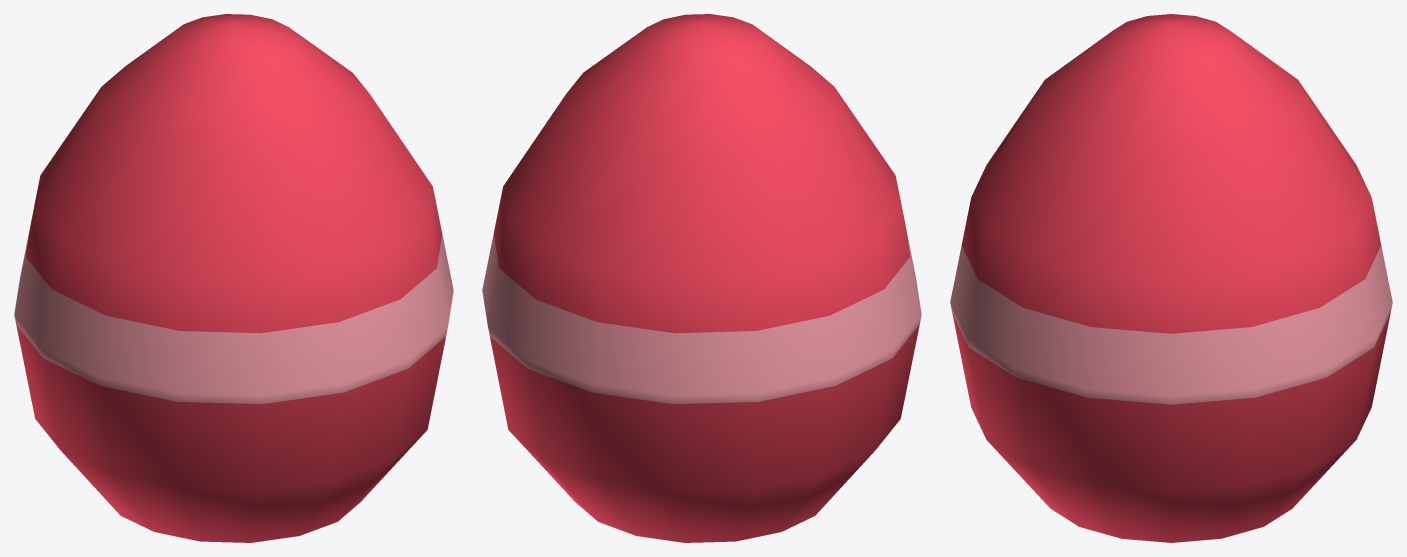
File: RubyEgg.fbx
The picture shows the model from 3 angles, left to right: view 1: azimuth 30°, elevation 25°; view 2: azimuth 150°, elevation 25°; view 3: azimuth 270°, elevation 25°; orthographic projection.
Parts seen in each view (by area): view 1: RubyEgg; view 2: RubyEgg; view 3: RubyEgg.
Boxes of the visible parts, left/top/right/bottom form: RubyEgg: left=14, top=14, right=453, bottom=542; RubyEgg: left=482, top=14, right=921, bottom=542; RubyEgg: left=950, top=14, right=1392, bottom=542.
Bounding box in the file's own units: 2.1 × 2.5 × 2.1.
Materials: 1 (1 with a texture image).
